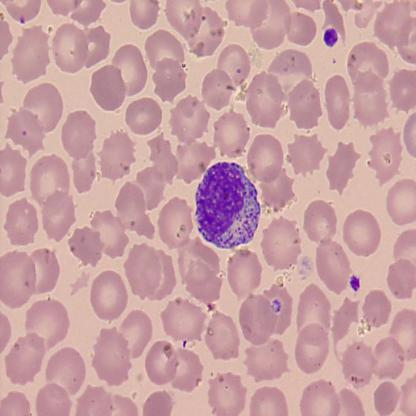Myelocyte: (195, 158, 262, 250)
